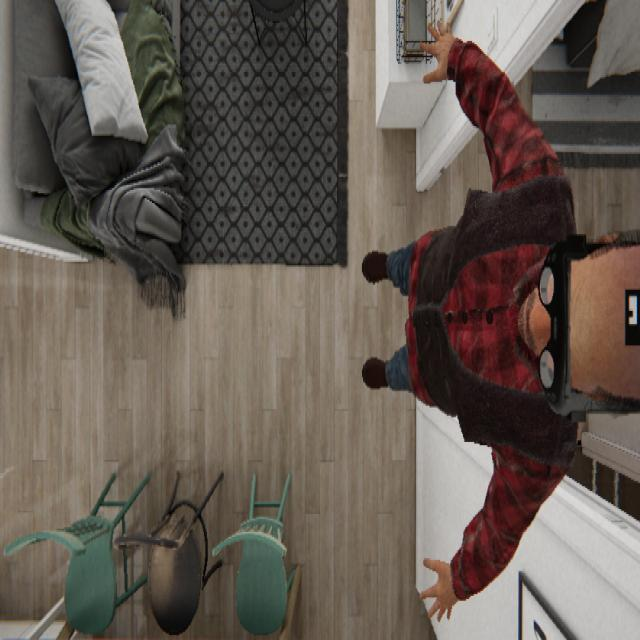Human: (360, 16, 580, 624)
